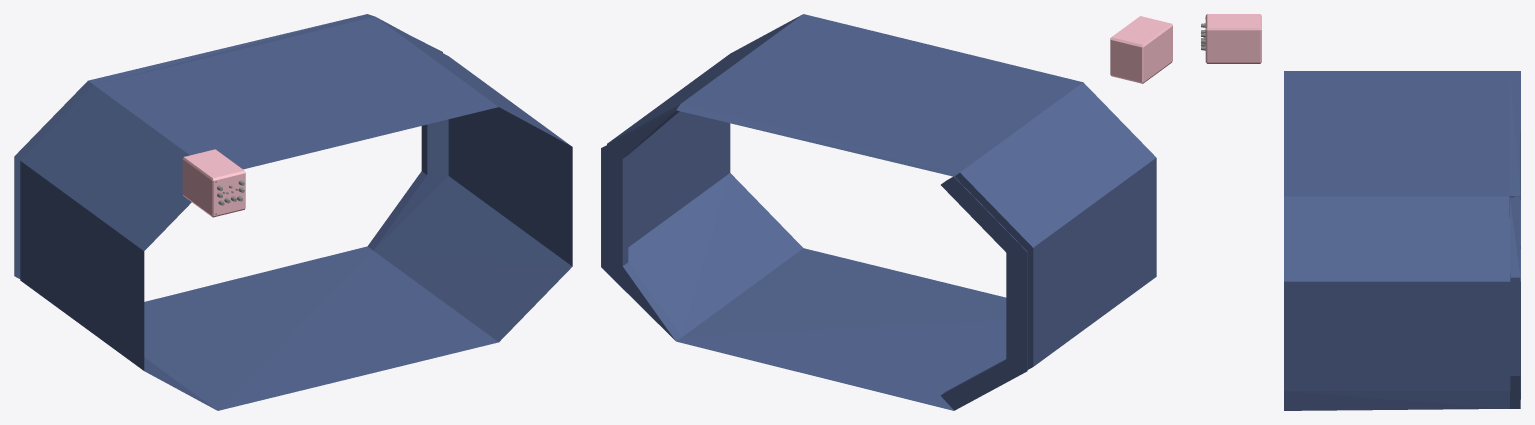
File: Module1.fbx
The picture shows the model from 3 angles, left to right: view 1: azimuth 30°, elevation 25°; view 2: azimuth 150°, elevation 25°; view 3: azimuth 270°, elevation 25°; orthographic projection. The views are drawn at different scales.
Visible parts, largest first — view 1: Corridior_4_Back, Synth_Base_5; view 2: Corridior_4_Back, Synth_Base_5; view 3: Corridior_4_Back, Synth_Base_5.
Part boxes in pixels (x1=…): Corridior_4_Back: x1=14, y1=14, x2=572, y2=410; Synth_Base_5: x1=182, y1=149, x2=245, y2=217; Corridior_4_Back: x1=601, y1=14, x2=1156, y2=410; Synth_Base_5: x1=1110, y1=16, x2=1172, y2=83; Corridior_4_Back: x1=1284, y1=71, x2=1520, y2=410; Synth_Base_5: x1=1205, y1=14, x2=1261, y2=63.
Size of the model in its own units: 800 by 491 by 567.
